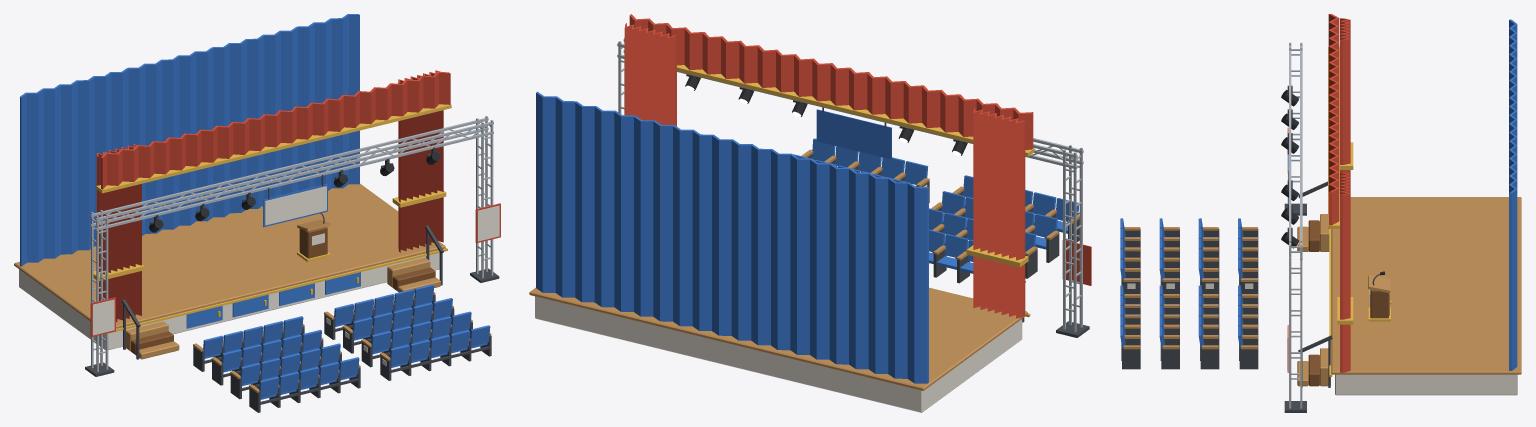
Rendered from school-auditorium-stage.glb.
3 renders of one model, left to right at view 1: azimuth 30°, elevation 25°; view 2: azimuth 150°, elevation 25°; view 3: azimuth 270°, elevation 25°, orthographic. The views are drawn at different scales.
Parts seen in each view (by area): view 1: Backdrop, Stage_Deck, Curtain_Valance, Curtain_R, Curtain_L, Stage_Base, Curtain_Fringe, Truss_Chord.001, Truss_Chord.003, Banner_Blank, Truss_Chord, Truss_Chord.002 (+14 smaller); view 2: Backdrop, Curtain_Valance, Stage_Base, Curtain_L, Stage_Deck, Curtain_R, Banner_Frame, Curtain_Fringe, Poster_Frame, Truss_Tower_Chord.001, Truss_Tower_Chord, Truss_Chord.002 (+2 smaller); view 3: Stage_Deck, Stage_Base, Backdrop, Curtain_Valance, Curtain_R, Curtain_L, Truss_Chord.003, Truss_Chord.001, Podium, Truss_Tower_Chord.006, Truss_Tower_Chord.007, Seat_Standard.023 (+7 smaller).
Part boxes in pixels (bbox=[...]): Backdrop: bbox=[20, 14, 359, 266]; Stage_Deck: bbox=[14, 183, 445, 328]; Curtain_Valance: bbox=[101, 71, 450, 189]; Curtain_R: bbox=[398, 70, 443, 252]; Curtain_L: bbox=[96, 144, 141, 321]; Stage_Base: bbox=[19, 253, 439, 350]; Curtain_Fringe: bbox=[96, 104, 451, 193]; Truss_Chord.001: bbox=[95, 122, 493, 220]; Truss_Chord.003: bbox=[90, 118, 488, 217]; Banner_Blank: bbox=[265, 186, 326, 225]; Truss_Chord: bbox=[95, 131, 493, 230]; Truss_Chord.002: bbox=[90, 127, 488, 226]; Backdrop: bbox=[536, 91, 928, 383]; Curtain_Valance: bbox=[629, 14, 1033, 149]; Stage_Base: bbox=[535, 296, 1022, 412]; Curtain_L: bbox=[973, 108, 1025, 318]; Stage_Deck: bbox=[529, 287, 1027, 390]; Curtain_R: bbox=[624, 23, 676, 126]; Banner_Frame: bbox=[816, 109, 891, 159]; Curtain_Fringe: bbox=[624, 55, 1034, 156]; Poster_Frame: bbox=[1062, 240, 1091, 285]; Truss_Tower_Chord.001: bbox=[1073, 152, 1076, 332]; Truss_Tower_Chord: bbox=[1079, 147, 1082, 327]; Truss_Chord.002: bbox=[617, 54, 1077, 169]; Stage_Deck: bbox=[1331, 197, 1521, 374]; Stage_Base: bbox=[1335, 374, 1517, 395]; Backdrop: bbox=[1509, 19, 1517, 370]; Curtain_Valance: bbox=[1328, 14, 1339, 225]; Curtain_R: bbox=[1340, 173, 1350, 372]; Curtain_L: bbox=[1340, 18, 1350, 174]; Truss_Chord.003: bbox=[1300, 44, 1302, 249]; Truss_Chord.001: bbox=[1289, 45, 1291, 249]; Podium: bbox=[1370, 289, 1388, 318]; Truss_Tower_Chord.006: bbox=[1289, 244, 1291, 408]; Truss_Tower_Chord.007: bbox=[1300, 244, 1302, 408]; Seat_Standard.023: bbox=[1200, 347, 1219, 369].
Bounding box in the file's own units: 53.2 × 24.4 × 42.99.
